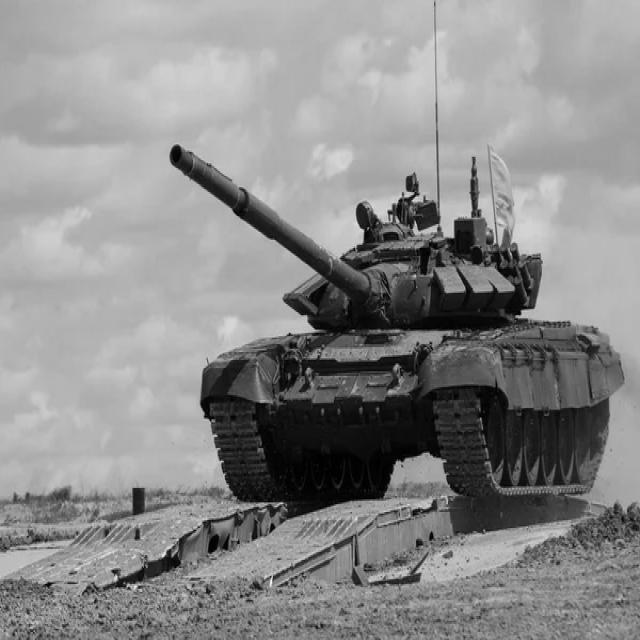Tank: (160, 132, 626, 520)
